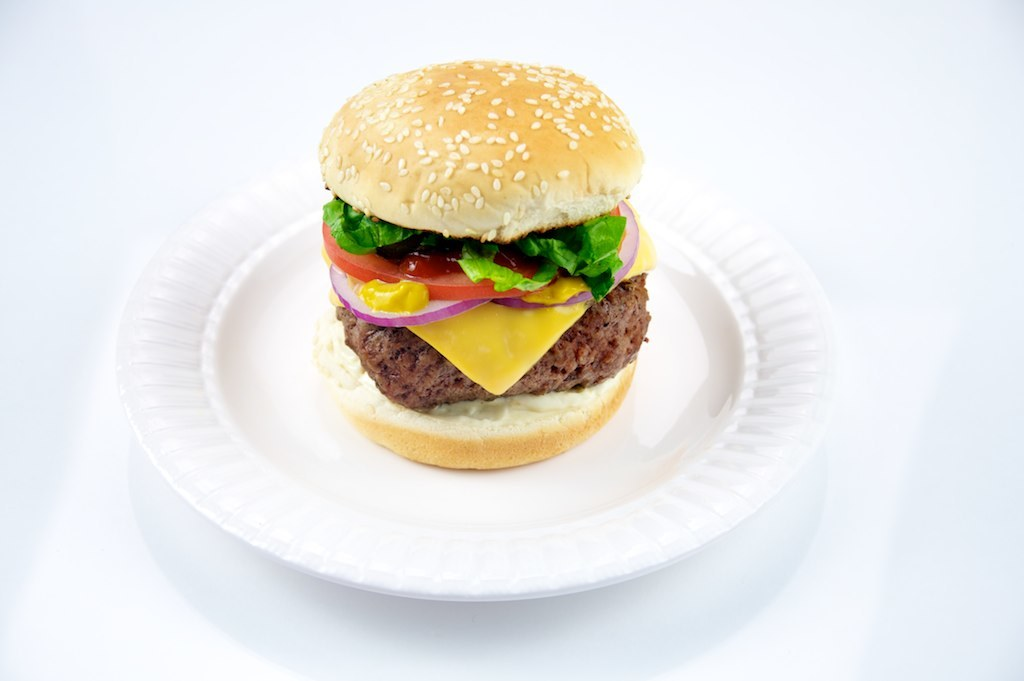Hamburger: (316, 58, 654, 473)
